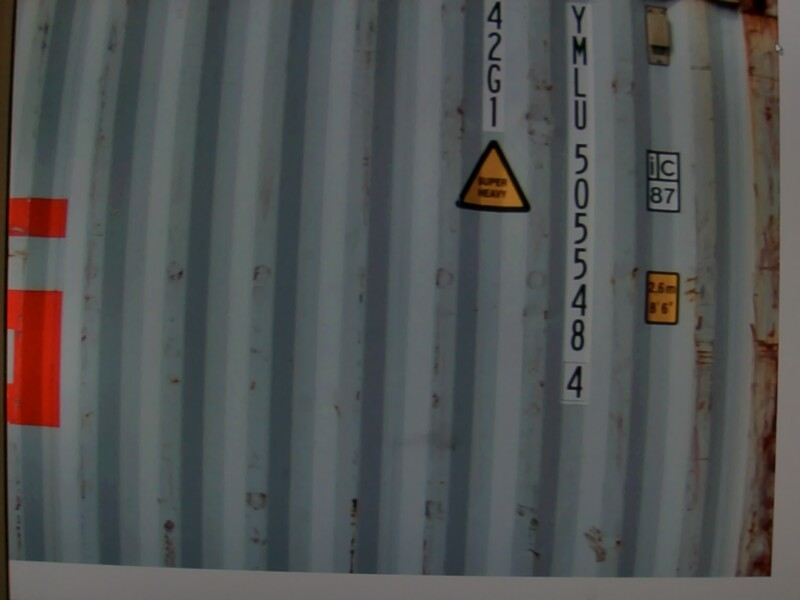container_no_door: (36, 43, 617, 498)
